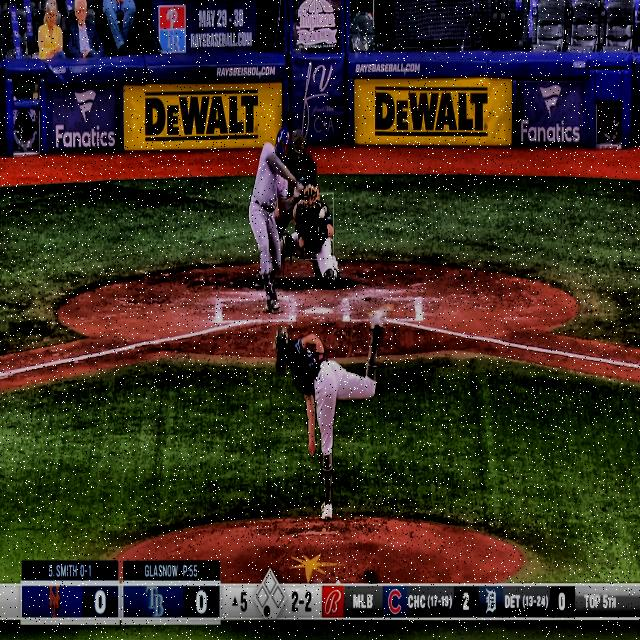baseball: (318, 208, 326, 221)
